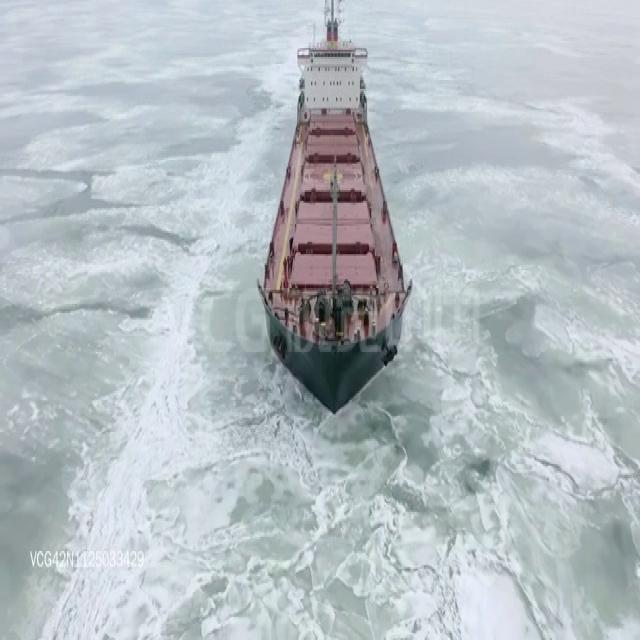cargoship: (260, 0, 412, 406)
